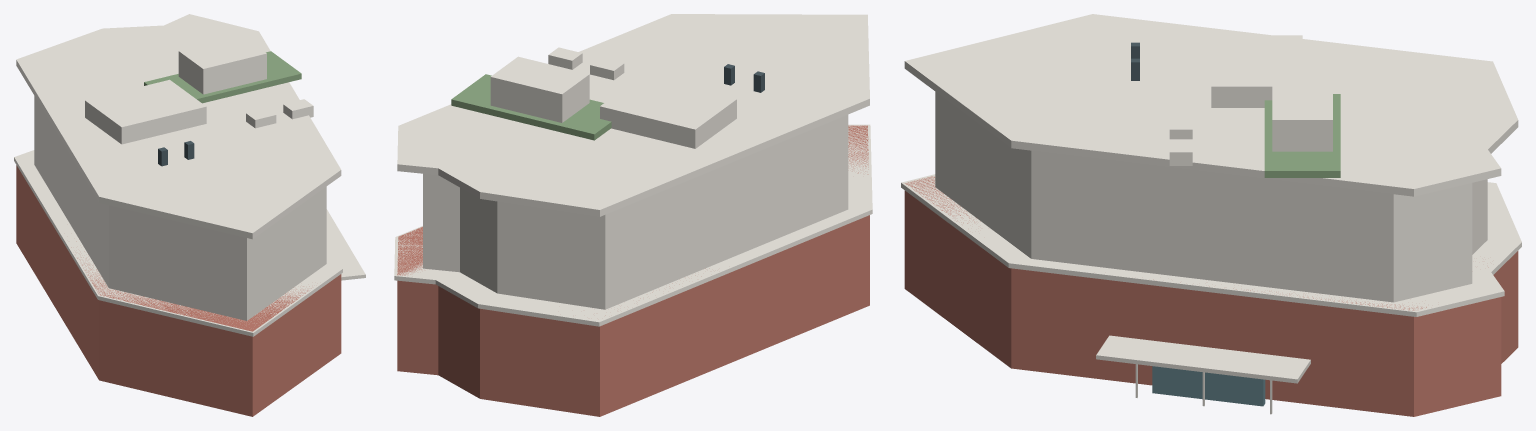
The model's file is anita_chan_lai_ling_building.glb.
The picture shows the model from 3 angles, left to right: view 1: azimuth 30°, elevation 25°; view 2: azimuth 150°, elevation 25°; view 3: azimuth 270°, elevation 25°; orthographic projection. The views are drawn at different scales.
Visible parts, largest first — view 1: Anita Chan Lai Ling Building_parapet, Anita Chan Lai Ling Building_base, Anita Chan Lai Ling Building_upper, Anita Chan Lai Ling Building_band, Anita Chan Lai Ling Building_roof_plant, Anita Chan Lai Ling Building_pavilion, Anita Chan Lai Ling Building_garden, Anita Chan Lai Ling Building_canopy, Anita Chan Lai Ling Building_ac_1, Anita Chan Lai Ling Building_ac_0; view 2: Anita Chan Lai Ling Building_parapet, Anita Chan Lai Ling Building_base, Anita Chan Lai Ling Building_upper, Anita Chan Lai Ling Building_band, Anita Chan Lai Ling Building_roof_plant, Anita Chan Lai Ling Building_pavilion, Anita Chan Lai Ling Building_garden, Anita Chan Lai Ling Building_ac_0, Anita Chan Lai Ling Building_ac_1; view 3: Anita Chan Lai Ling Building_parapet, Anita Chan Lai Ling Building_upper, Anita Chan Lai Ling Building_base, Anita Chan Lai Ling Building_band, Anita Chan Lai Ling Building_roof_plant, Anita Chan Lai Ling Building_canopy, Anita Chan Lai Ling Building_pavilion, Anita Chan Lai Ling Building_door, Anita Chan Lai Ling Building_garden, Anita Chan Lai Ling Building_ac_1.
Part boxes in pixels (bbox=[...]): Anita Chan Lai Ling Building_parapet: bbox=[16, 14, 341, 239]; Anita Chan Lai Ling Building_base: bbox=[16, 165, 341, 416]; Anita Chan Lai Ling Building_upper: bbox=[34, 96, 326, 320]; Anita Chan Lai Ling Building_band: bbox=[14, 150, 342, 336]; Anita Chan Lai Ling Building_roof_plant: bbox=[85, 79, 206, 144]; Anita Chan Lai Ling Building_pavilion: bbox=[178, 35, 266, 94]; Anita Chan Lai Ling Building_garden: bbox=[144, 51, 301, 103]; Anita Chan Lai Ling Building_canopy: bbox=[326, 209, 365, 280]; Anita Chan Lai Ling Building_ac_1: bbox=[283, 99, 313, 119]; Anita Chan Lai Ling Building_ac_0: bbox=[246, 108, 276, 128]; Anita Chan Lai Ling Building_parapet: bbox=[397, 14, 869, 216]; Anita Chan Lai Ling Building_base: bbox=[397, 125, 869, 416]; Anita Chan Lai Ling Building_upper: bbox=[423, 114, 848, 309]; Anita Chan Lai Ling Building_band: bbox=[394, 124, 872, 326]; Anita Chan Lai Ling Building_roof_plant: bbox=[600, 76, 736, 148]; Anita Chan Lai Ling Building_pavilion: bbox=[490, 56, 589, 122]; Anita Chan Lai Ling Building_garden: bbox=[451, 74, 611, 140]; Anita Chan Lai Ling Building_ac_0: bbox=[590, 57, 624, 80]; Anita Chan Lai Ling Building_ac_1: bbox=[548, 47, 582, 69]; Anita Chan Lai Ling Building_parapet: bbox=[904, 14, 1518, 196]; Anita Chan Lai Ling Building_upper: bbox=[935, 92, 1487, 302]; Anita Chan Lai Ling Building_base: bbox=[904, 176, 1518, 416]; Anita Chan Lai Ling Building_band: bbox=[901, 174, 1521, 316]; Anita Chan Lai Ling Building_roof_plant: bbox=[1211, 35, 1302, 107]; Anita Chan Lai Ling Building_canopy: bbox=[1096, 335, 1310, 383]; Anita Chan Lai Ling Building_pavilion: bbox=[1272, 81, 1332, 151]; Anita Chan Lai Ling Building_door: bbox=[1152, 366, 1265, 406]; Anita Chan Lai Ling Building_garden: bbox=[1264, 94, 1340, 177]; Anita Chan Lai Ling Building_ac_1: bbox=[1169, 139, 1192, 165].
Size of the model in its own units: 29.21 by 19.4 by 40.87.
